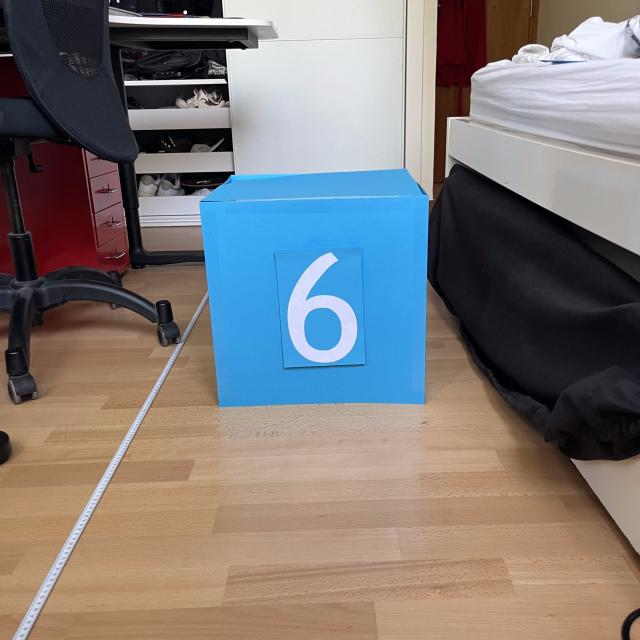box: (195, 165, 432, 409)
